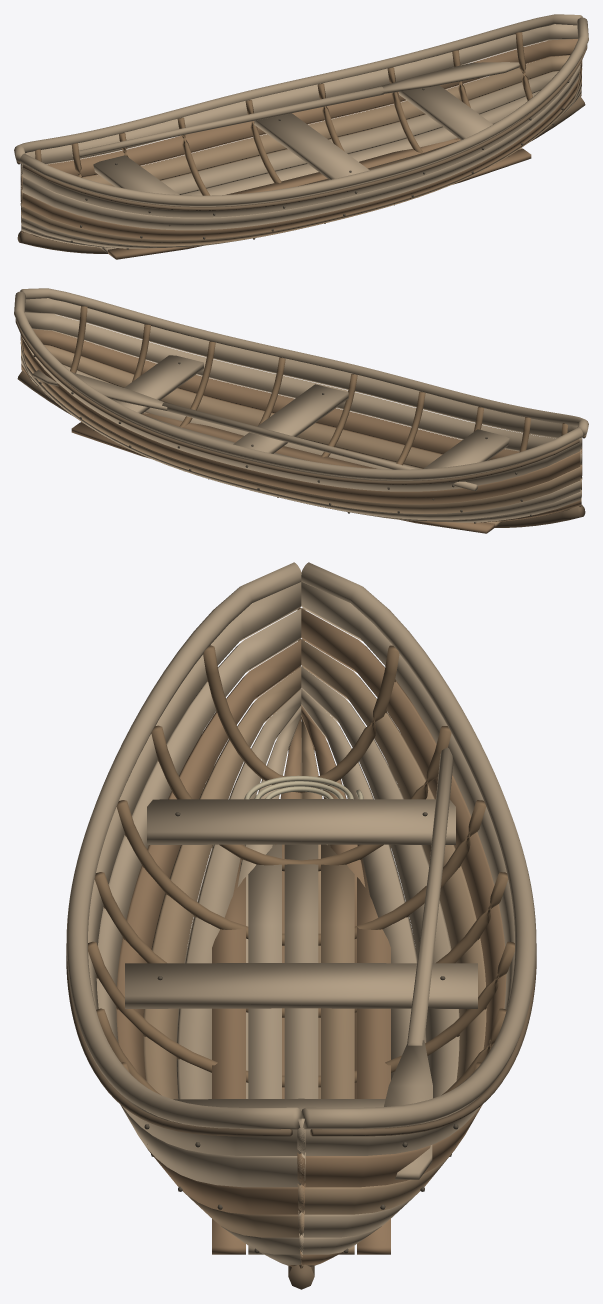
Rendered from SM_Boat.fbx.
3 views of the same model, one above another, from view 1: azimuth 30°, elevation 25°; view 2: azimuth 150°, elevation 25°; view 3: azimuth 270°, elevation 25° (orthographic). The views are drawn at different scales.
Visible parts, largest first — view 1: SM_Boat; view 2: SM_Boat; view 3: SM_Boat.
Boxes of the visible parts, box(x1,y1,x2,y2) form: SM_Boat: box(14, 14, 588, 259); SM_Boat: box(14, 288, 588, 533); SM_Boat: box(66, 562, 536, 1289).
Bounding box in the file's own units: 416 × 149 × 96.61.
